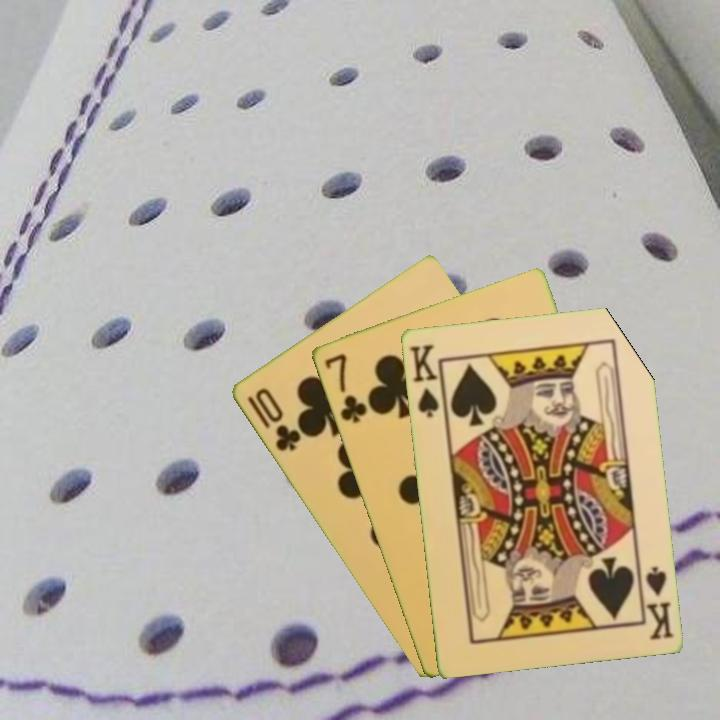10c: (243, 384, 304, 454)
7c: (320, 350, 370, 426)
Ks: (405, 340, 447, 420), (636, 561, 676, 643)
